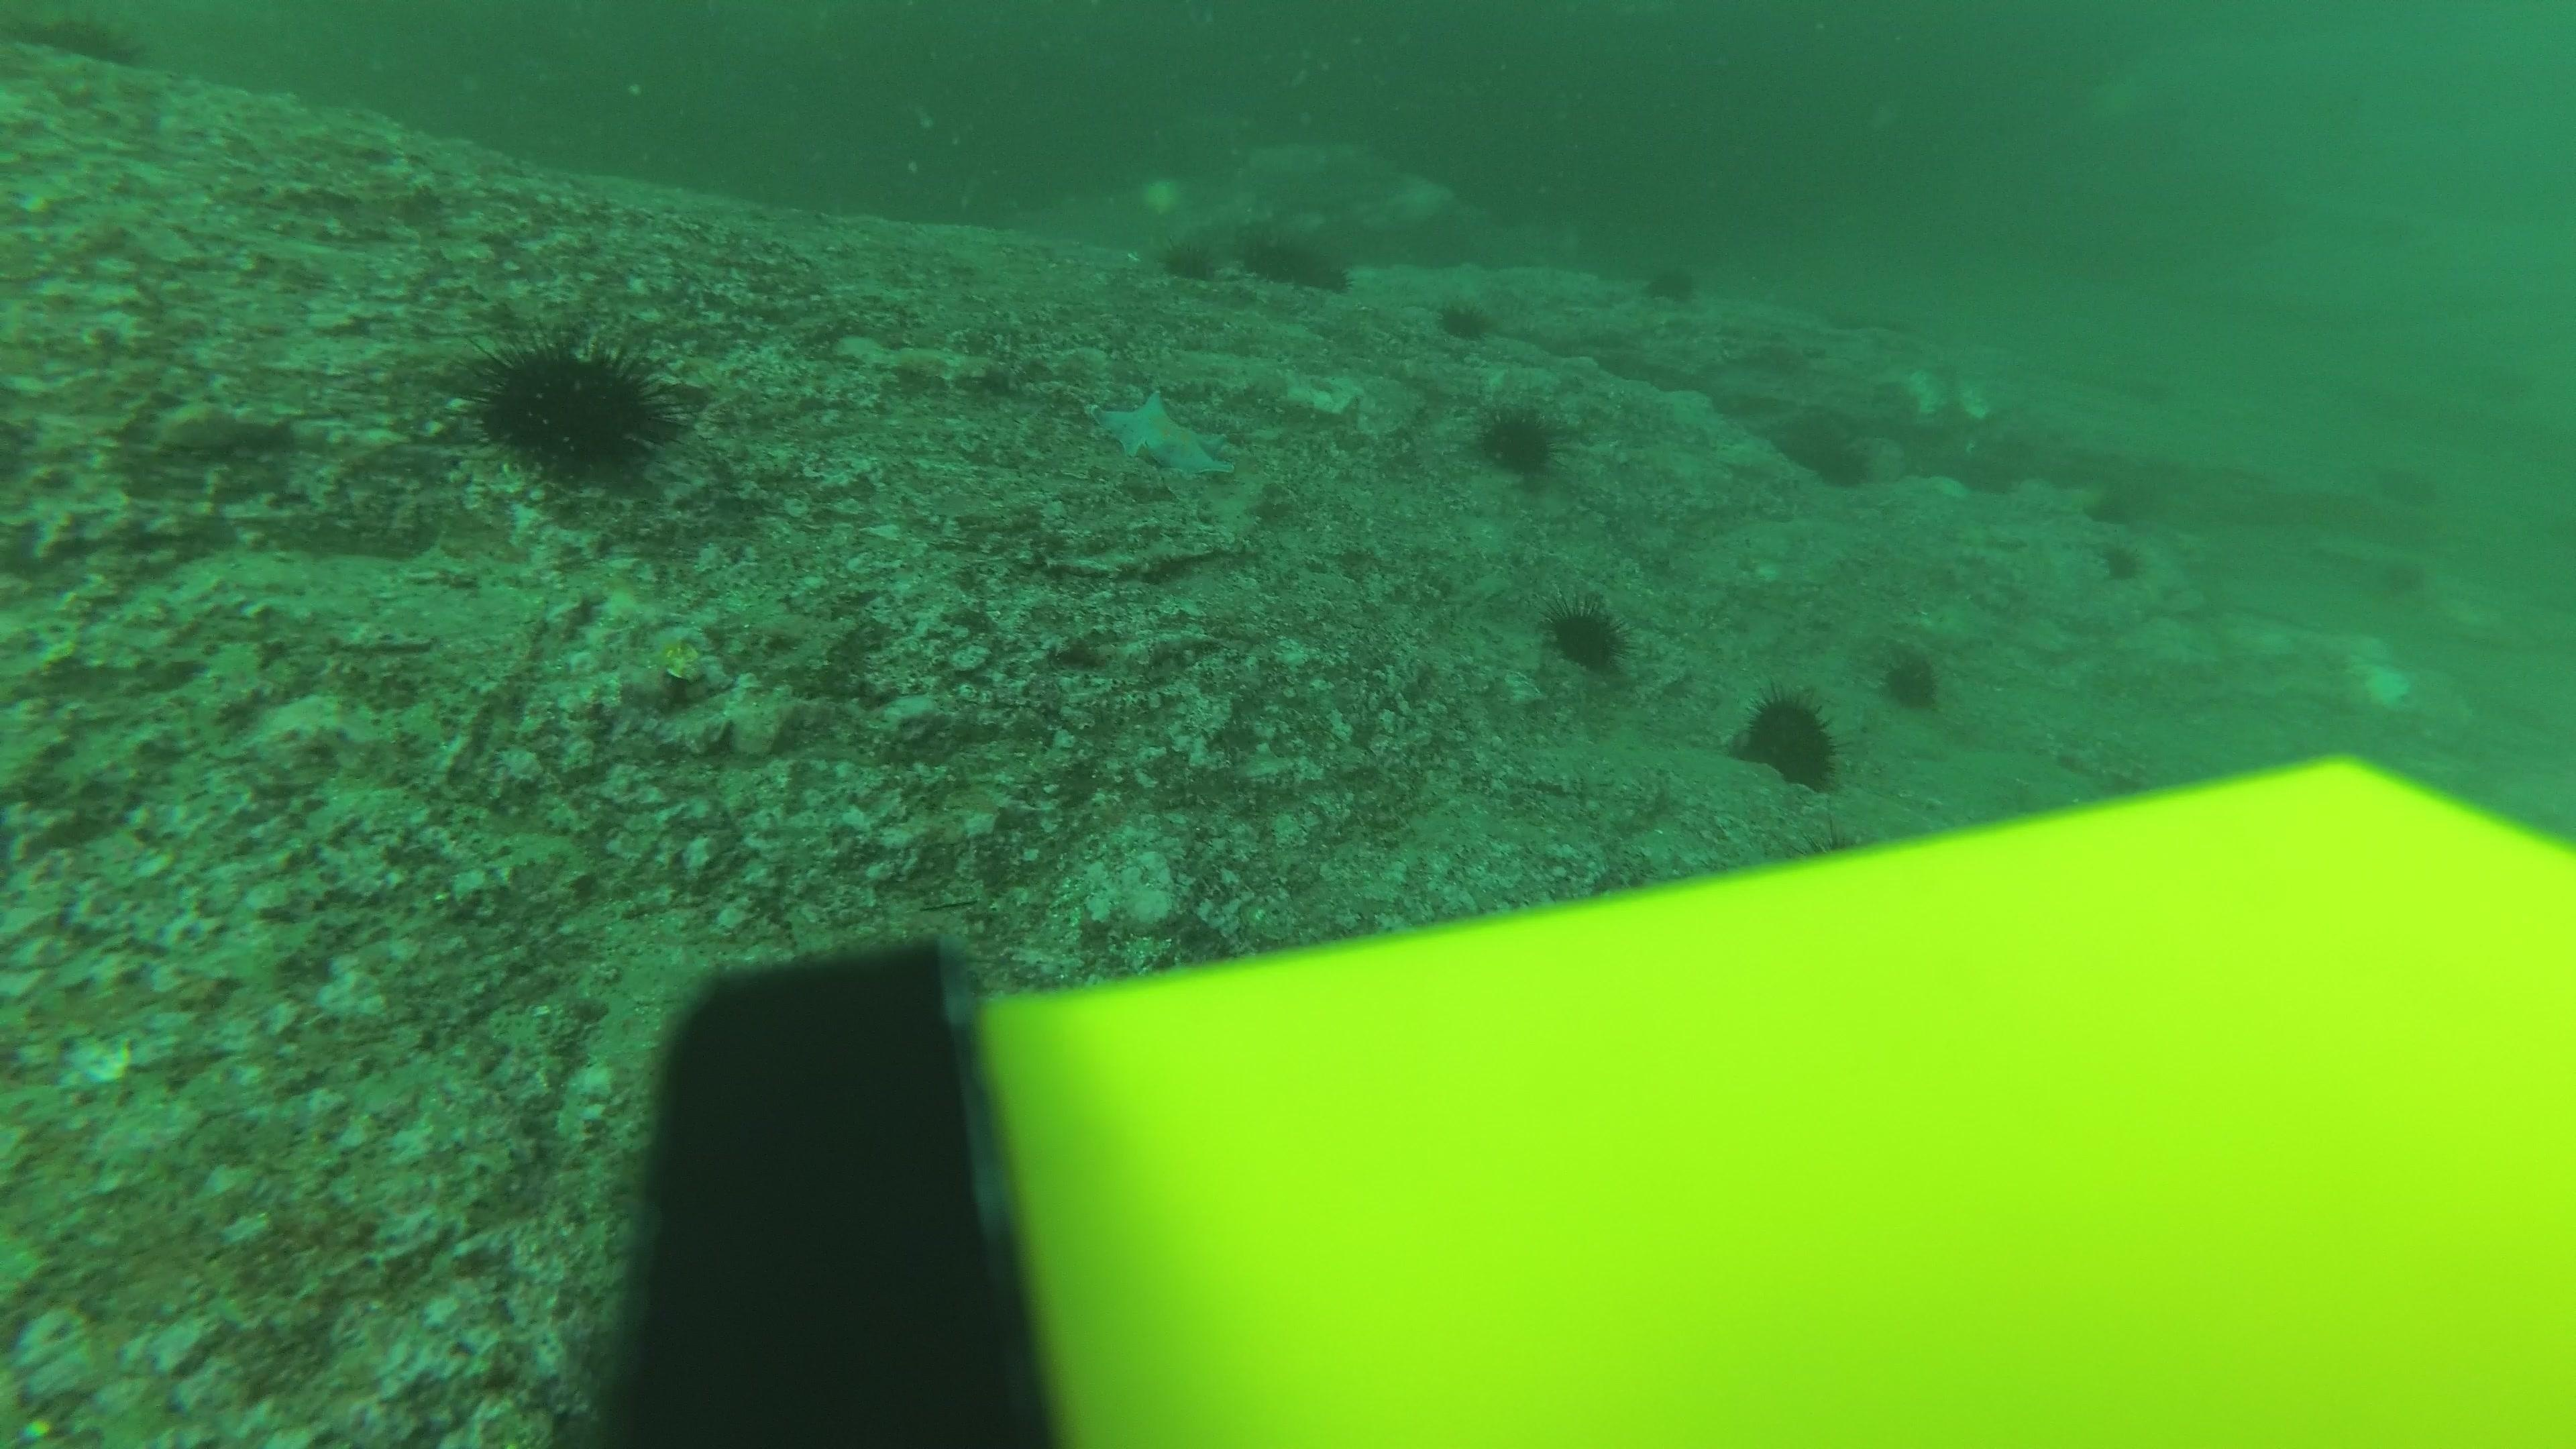echinus: (465, 331, 678, 481), (1736, 686, 1845, 791), (1778, 409, 1875, 490), (1474, 398, 1562, 478), (1541, 593, 1629, 672), (1877, 644, 1948, 713), (1231, 225, 1304, 290), (1292, 248, 1364, 313), (1433, 292, 1495, 343), (1157, 232, 1219, 283), (1640, 258, 1702, 306), (2093, 536, 2148, 586), (2383, 552, 2438, 602), (2380, 456, 2434, 506), (2072, 478, 2127, 527)
starfish: (1088, 382, 1240, 483)
